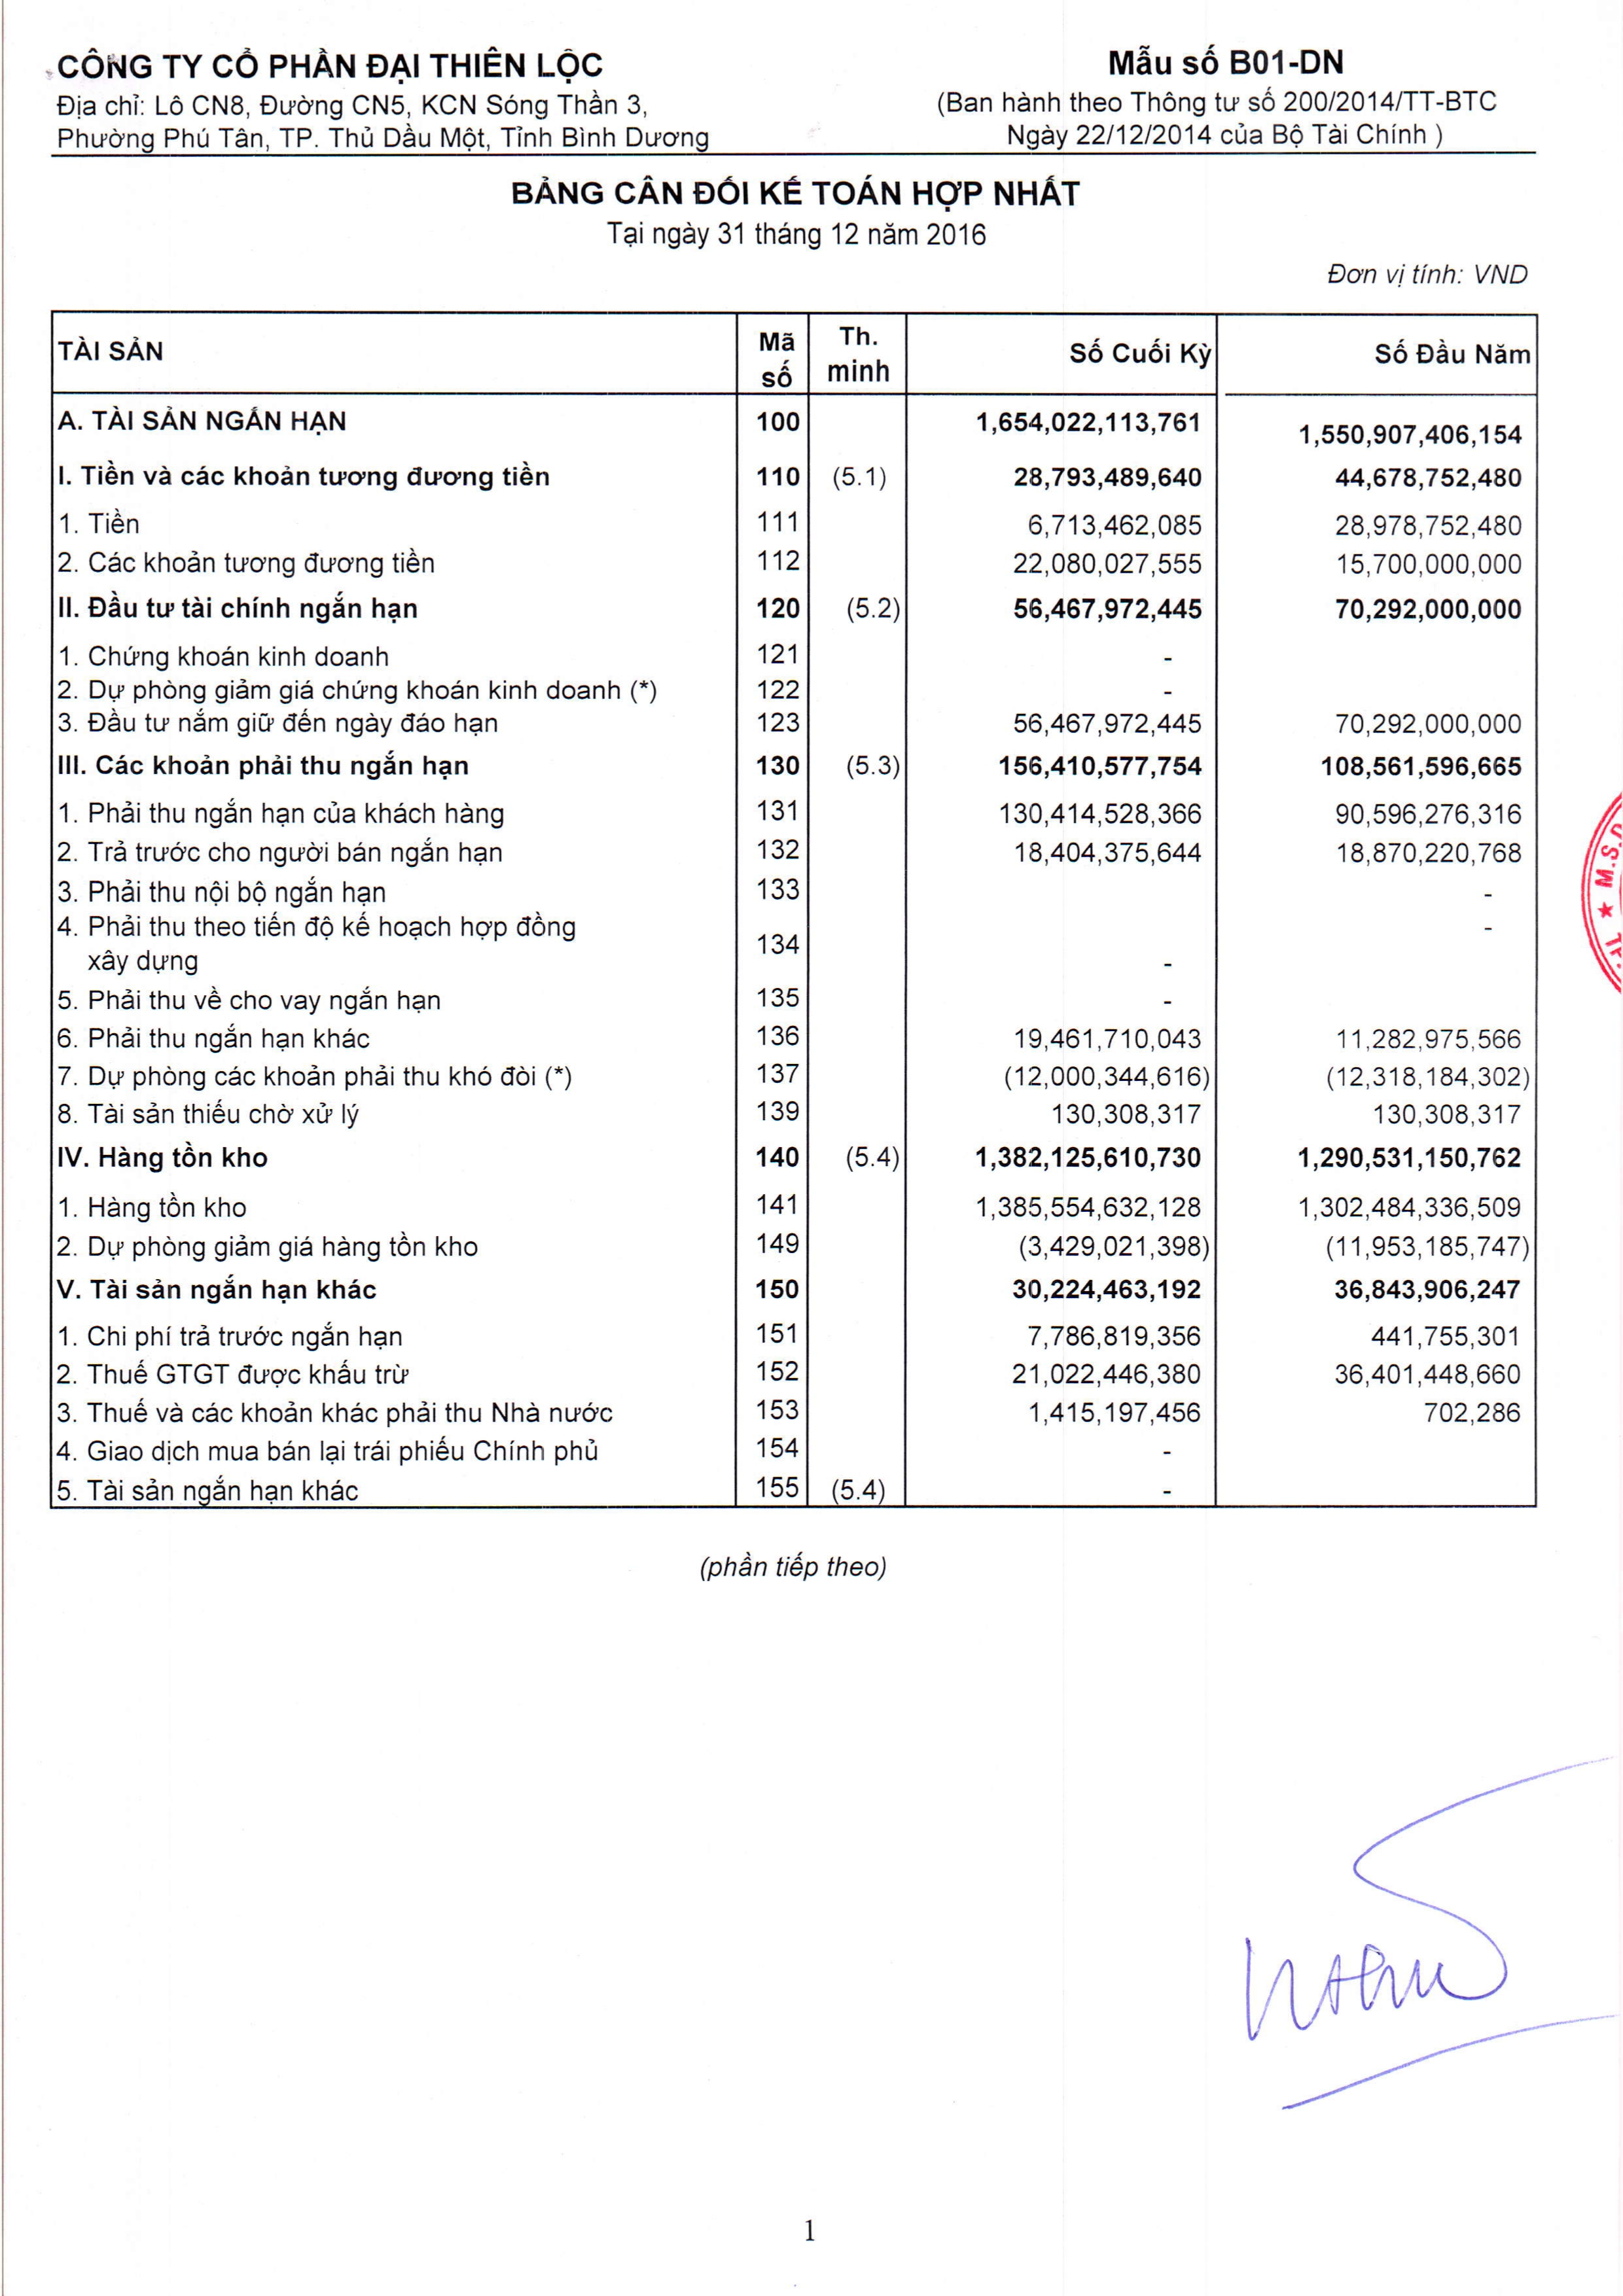table: (35, 297, 1553, 1525)
table column: (51, 297, 673, 1525), (991, 297, 1240, 1525), (1295, 297, 1539, 1525), (829, 297, 913, 1525), (729, 297, 810, 1525)
table column header: (37, 311, 1551, 393)
table row: (35, 906, 1553, 971), (35, 319, 1553, 383), (35, 391, 1553, 441), (35, 448, 1553, 497), (35, 500, 1553, 541), (35, 542, 1553, 583), (35, 585, 1553, 625), (35, 628, 1553, 669), (35, 743, 1553, 779), (35, 972, 1553, 1009), (35, 1136, 1553, 1173), (35, 1313, 1553, 1350), (35, 1392, 1553, 1429), (35, 1471, 1553, 1508), (35, 702, 1553, 737), (35, 793, 1553, 829), (35, 832, 1553, 867), (35, 869, 1553, 904), (35, 1013, 1553, 1048), (35, 1053, 1553, 1088), (35, 1094, 1553, 1129), (35, 1185, 1553, 1220), (35, 1223, 1553, 1259), (35, 1266, 1553, 1301), (35, 1353, 1553, 1388), (35, 1432, 1553, 1467), (35, 671, 1553, 699)
